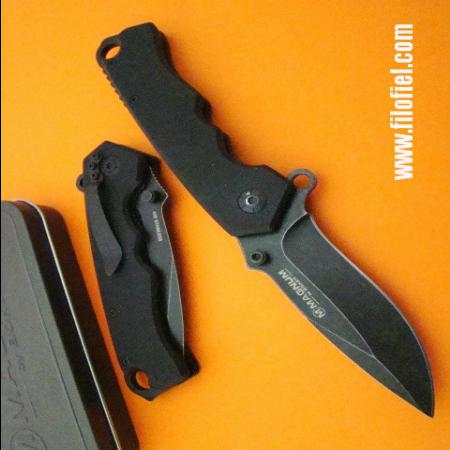long weapon: (228, 206, 437, 426)
